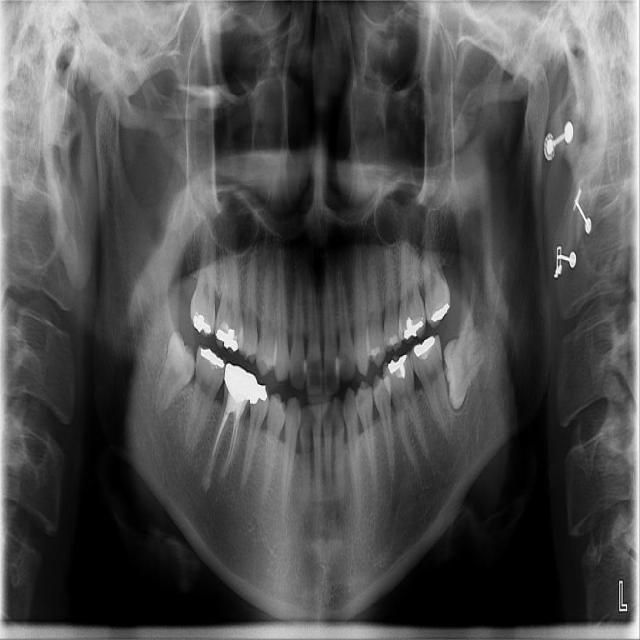Crown: (224, 363, 256, 403)
Filling: (215, 322, 240, 350), (402, 311, 426, 340), (410, 337, 436, 362), (387, 355, 410, 381), (431, 301, 451, 325), (251, 382, 270, 406), (192, 311, 212, 333), (368, 344, 384, 359), (387, 336, 403, 347)
Root Canal Treatment: (206, 415, 225, 472), (221, 425, 235, 476), (198, 344, 223, 367)
impacted tooth: (442, 309, 490, 405), (152, 332, 196, 413)
